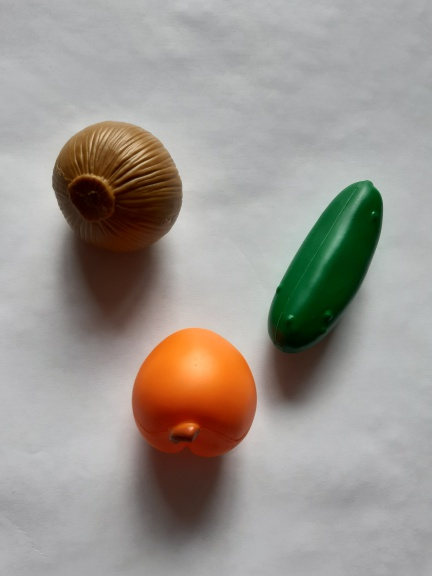apricot: (121, 321, 263, 466)
cucumber: (249, 174, 389, 361)
onion: (43, 118, 194, 260)
